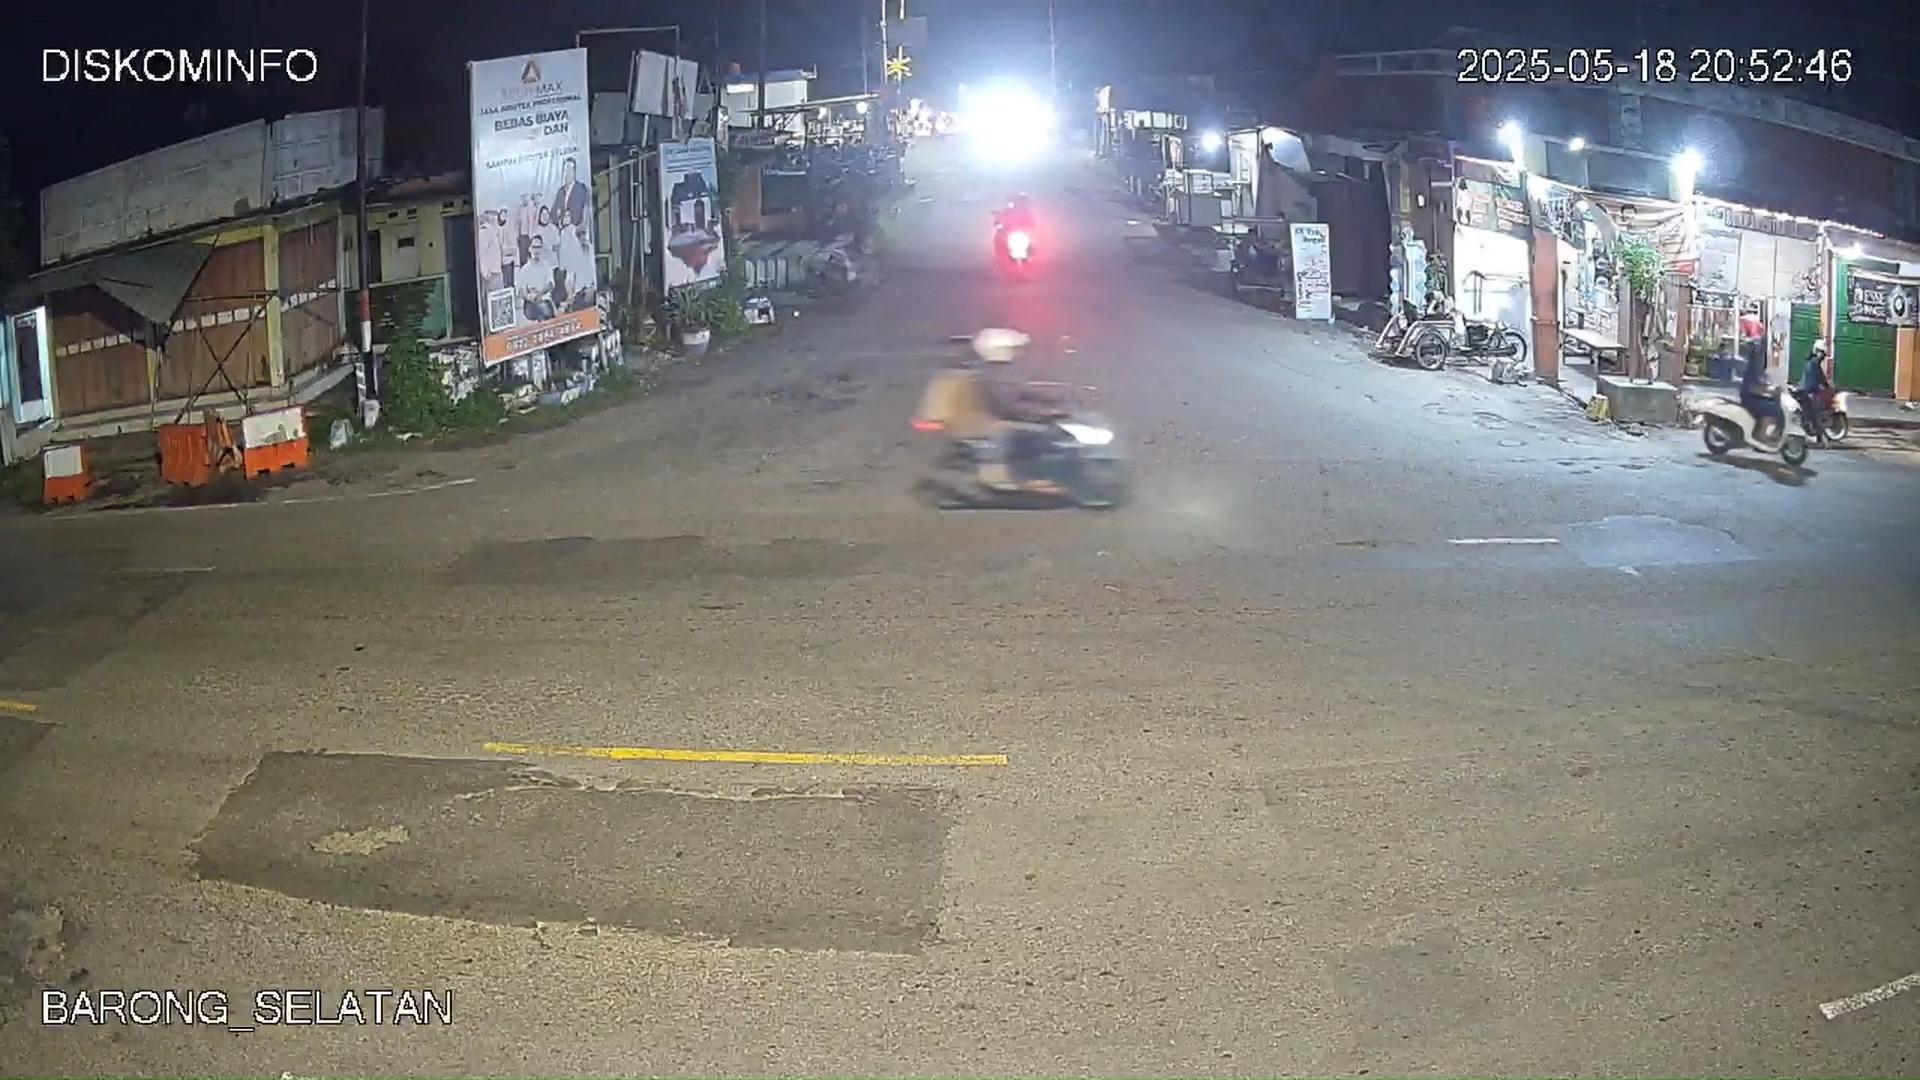Motor: (923, 319, 1124, 508), (1695, 335, 1818, 467)
